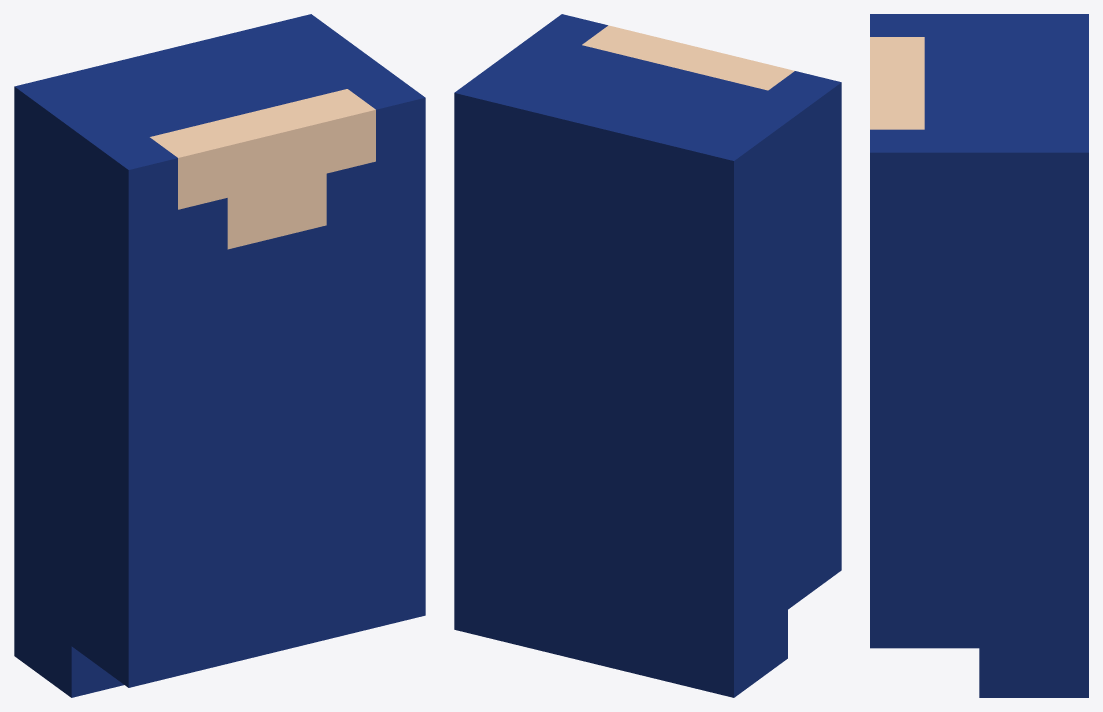
The model's file is torso.obj.
3 renders of one model, left to right at view 1: azimuth 30°, elevation 25°; view 2: azimuth 150°, elevation 25°; view 3: azimuth 270°, elevation 25°, orthographic. The views are drawn at different scales.
Size of the model in its own units: 0.6 by 1.1 by 0.4.
Materials: 1 (1 with a texture image).
